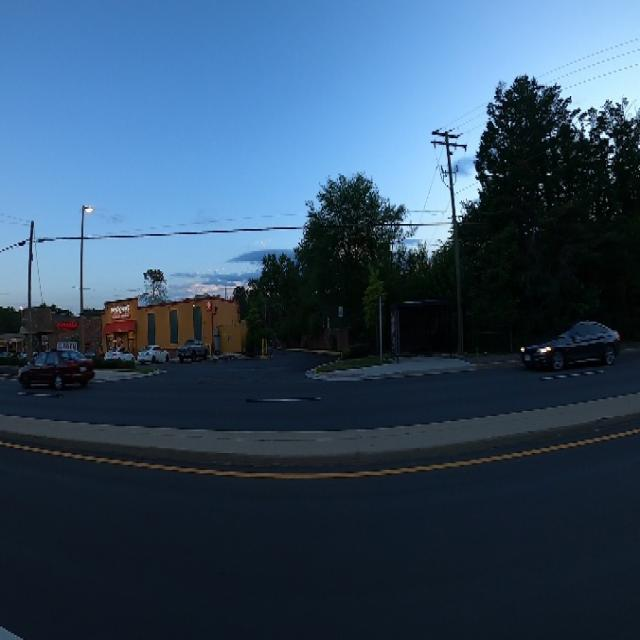cars: (519, 313, 620, 377), (16, 344, 94, 391), (136, 336, 170, 371), (178, 333, 209, 366), (104, 341, 135, 371)
